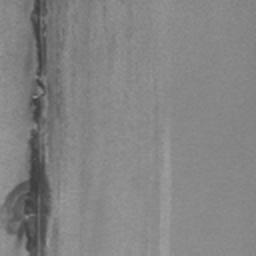Slag inclusion: (3, 0, 68, 256)
